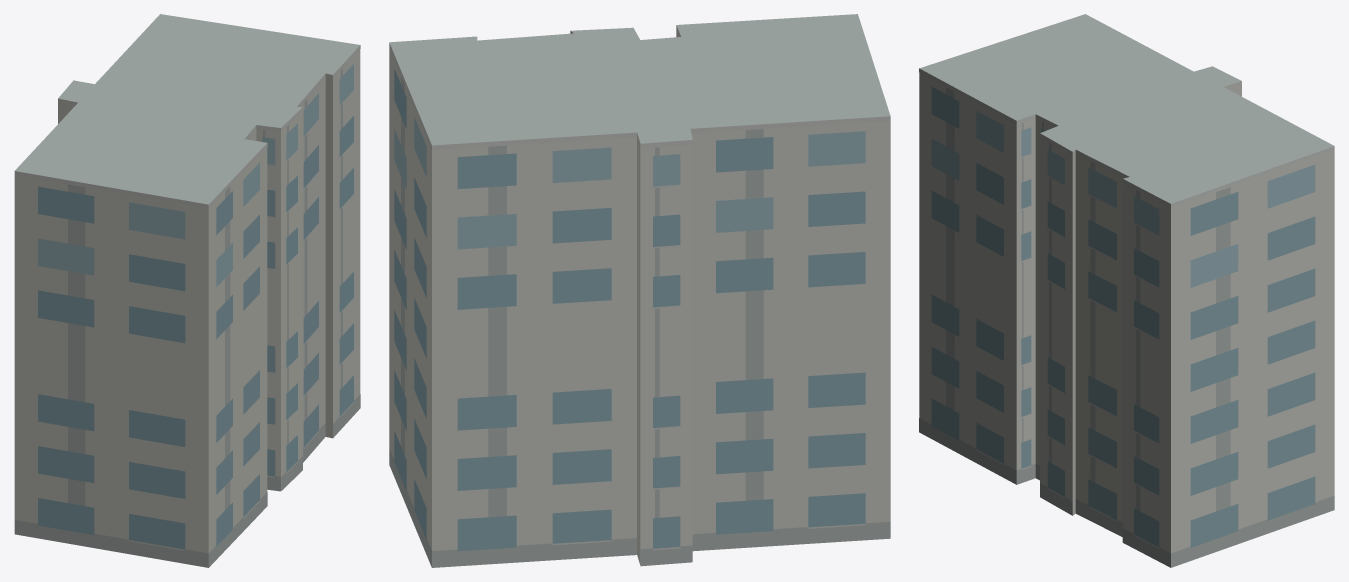
File: survey-upis-32529522.glb
The picture shows the model from 3 angles, left to right: view 1: azimuth 30°, elevation 25°; view 2: azimuth 150°, elevation 25°; view 3: azimuth 270°, elevation 25°; orthographic projection. The views are drawn at different scales.
Parts seen in each view (by area): view 1: survey-upis-32529522.tmp; view 2: survey-upis-32529522.tmp; view 3: survey-upis-32529522.tmp.
Part boxes in pixels (bbox=[...]): survey-upis-32529522.tmp: bbox=[14, 14, 360, 567]; survey-upis-32529522.tmp: bbox=[389, 14, 890, 567]; survey-upis-32529522.tmp: bbox=[919, 14, 1334, 567].
Size of the model in its own units: 23.9 by 21.35 by 22.1.
